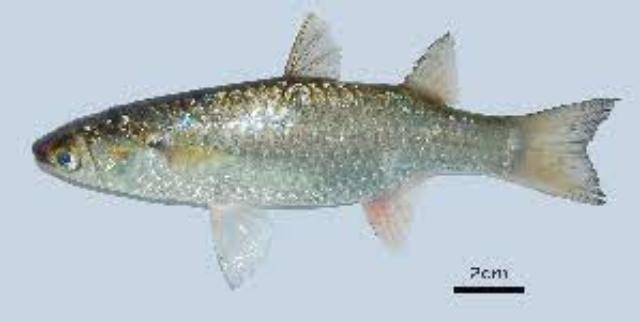Mulut: (26, 128, 62, 180)
Sirip Anal: (355, 159, 449, 263)
Sirip Dada: (148, 130, 234, 178)
Sirip Ekor: (514, 91, 618, 208)
Sirip Perut: (202, 193, 286, 293)
Sirip Punggung: (275, 5, 471, 107)
